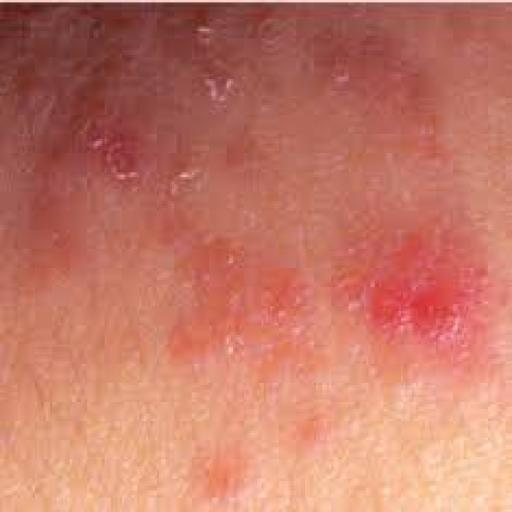Skin_Lesion: (342, 254, 502, 390), (190, 248, 290, 328), (74, 102, 144, 201), (71, 14, 132, 72), (195, 54, 250, 115), (412, 116, 460, 180), (211, 449, 248, 508), (322, 51, 362, 95), (182, 6, 213, 49)
